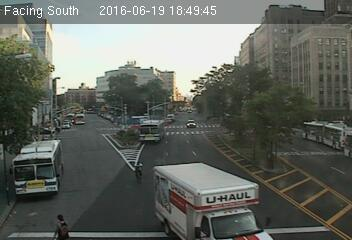neg: (281, 38, 323, 93), (15, 70, 44, 109), (149, 39, 178, 76), (38, 141, 65, 177), (232, 143, 258, 178), (271, 131, 296, 164), (152, 195, 174, 225), (75, 153, 97, 181), (229, 50, 250, 78), (64, 41, 85, 69), (155, 104, 175, 131), (74, 98, 93, 123), (197, 176, 216, 201), (122, 82, 140, 106), (248, 98, 266, 122), (204, 102, 221, 125), (277, 174, 294, 196), (310, 125, 326, 146), (110, 39, 122, 56)
pos: (127, 156, 149, 185), (50, 210, 70, 236)
